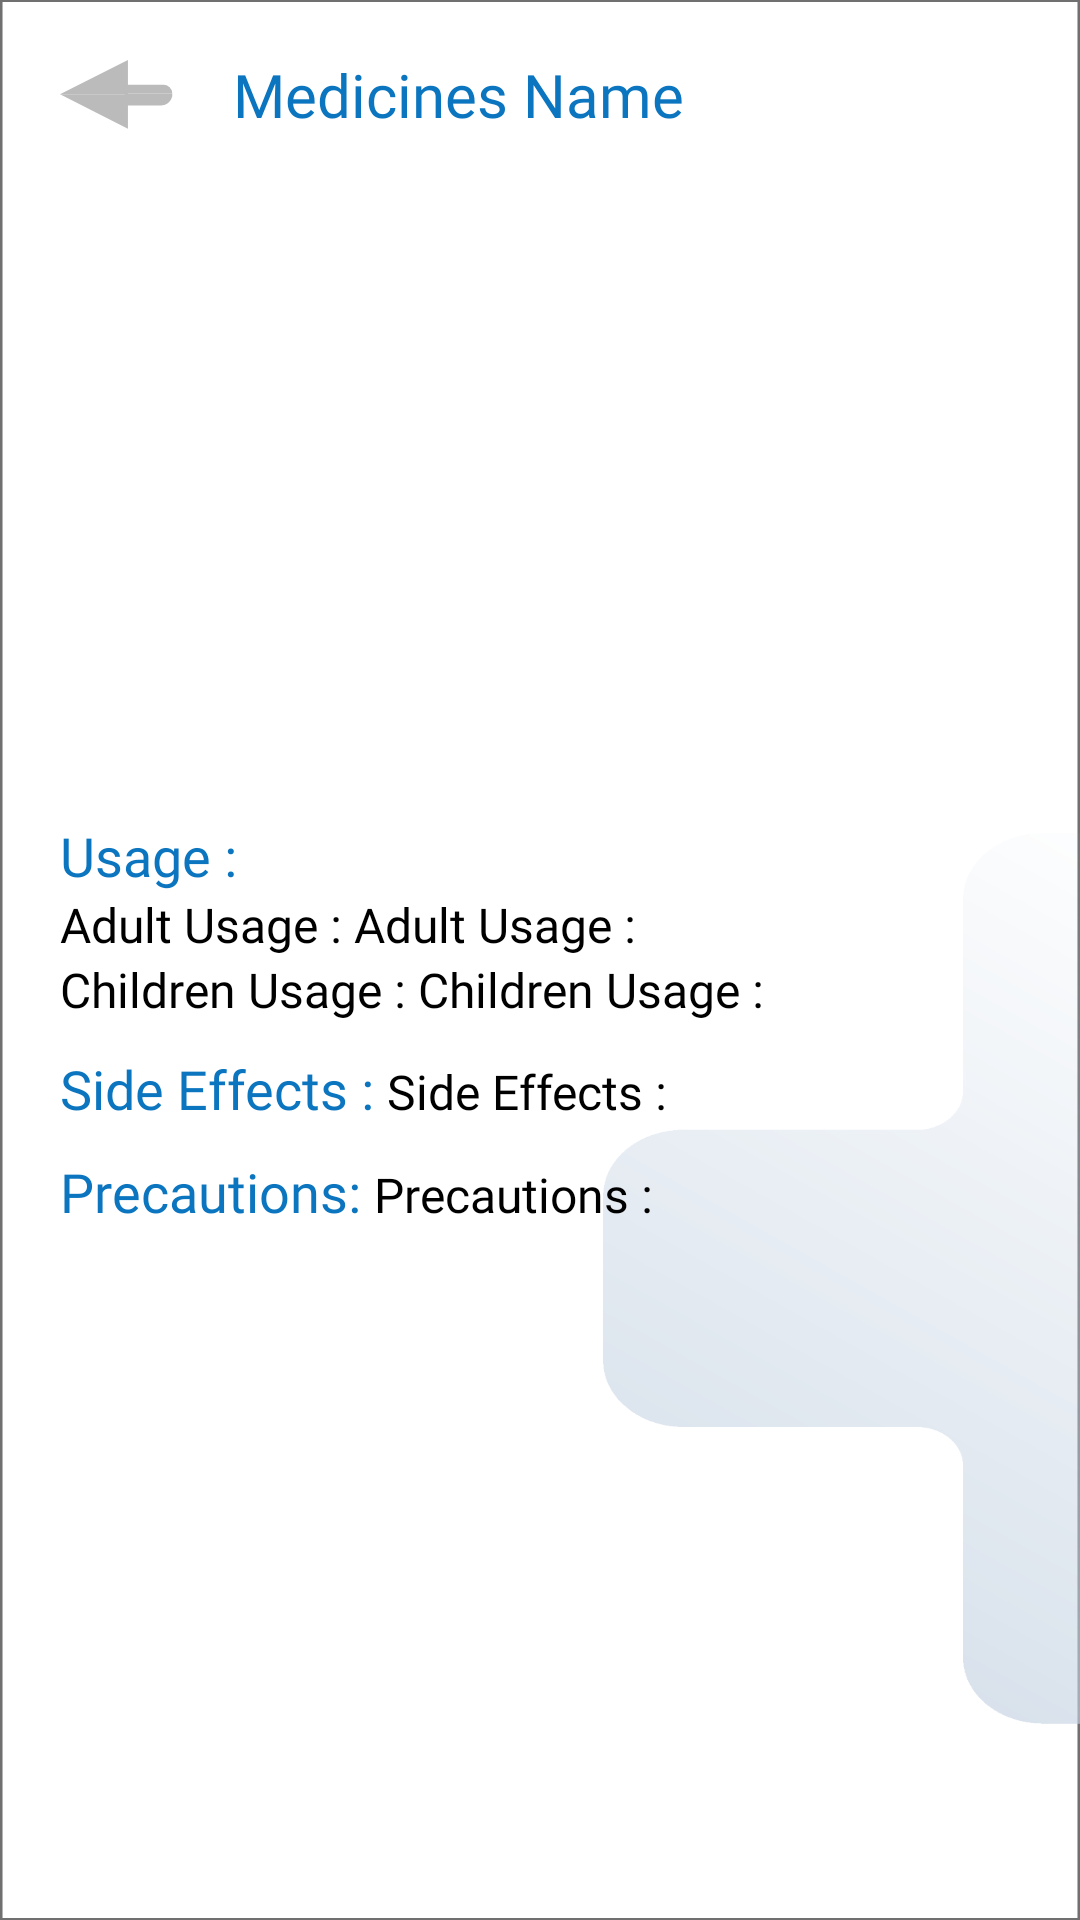

Screen size 1080 × 1920. Icon name, then its box in pixels as (x1, y1, x2, y2):
back: (60, 60, 172, 129)
